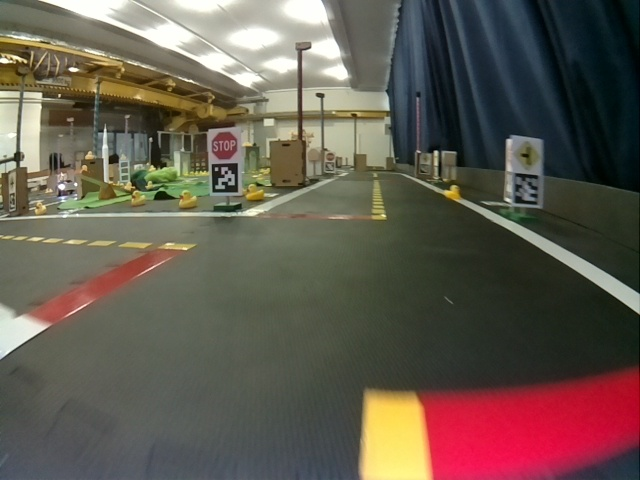Duckie: (179, 189, 196, 207), (247, 185, 264, 200), (445, 184, 461, 199), (129, 192, 146, 205)
Intersection sign: (515, 141, 539, 168)
QR code: (210, 163, 239, 193), (515, 173, 539, 203)
Stop sign: (211, 132, 239, 158)
